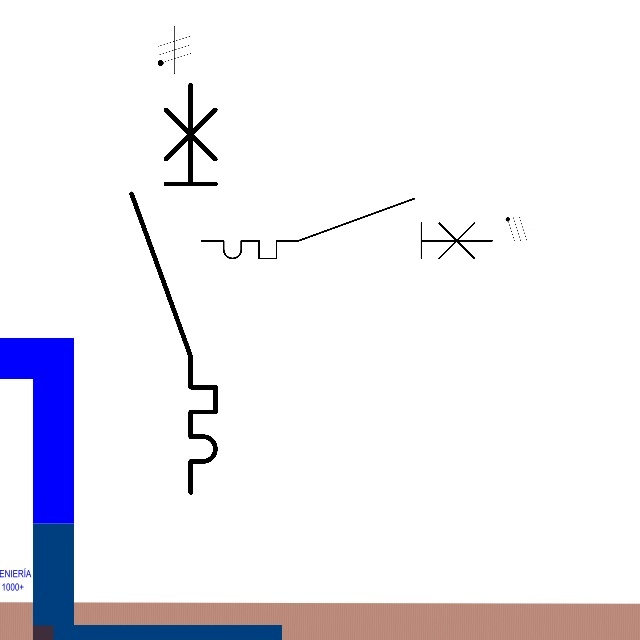interruptor_termomagnetico: (121, 74, 226, 503), (194, 191, 499, 266)
